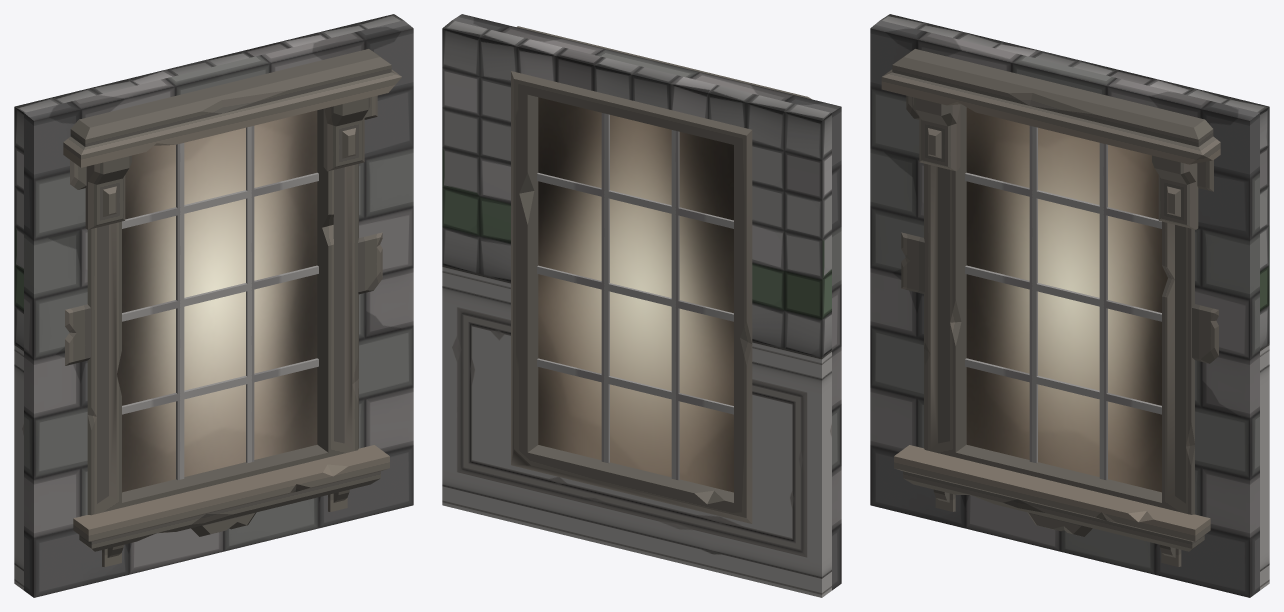
Rendered from SM_Bld_Wall_Window_02.fbx.
3 renders of one model, left to right at view 1: azimuth 30°, elevation 25°; view 2: azimuth 150°, elevation 25°; view 3: azimuth 330°, elevation 25°, orthographic.
Visible parts, largest first — view 1: SM_Bld_Wall_Window_02; view 2: SM_Bld_Wall_Window_02; view 3: SM_Bld_Wall_Window_02.
Boxes of the visible parts, bbox=[...] form: SM_Bld_Wall_Window_02: bbox=[14, 14, 413, 597]; SM_Bld_Wall_Window_02: bbox=[442, 14, 841, 597]; SM_Bld_Wall_Window_02: bbox=[870, 14, 1269, 597].
Size of the model in its own units: 250 by 301 by 44.37.
